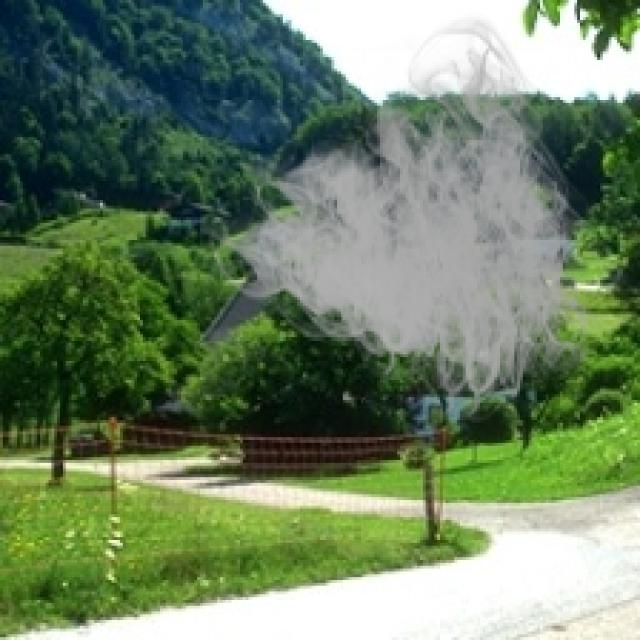smoke: (200, 12, 614, 434)
